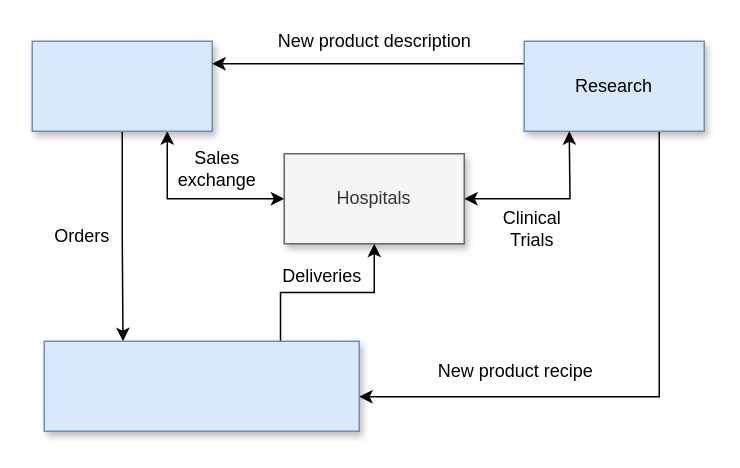
Some shapes in this 740 by 468 pixel diagram are drawn without their labels. Here are the shapes that lost their labels. From the top down, the centre of each, then its label:
pixel 123 88: Sales
pixel 202 388: Manufacturing and Distribution
